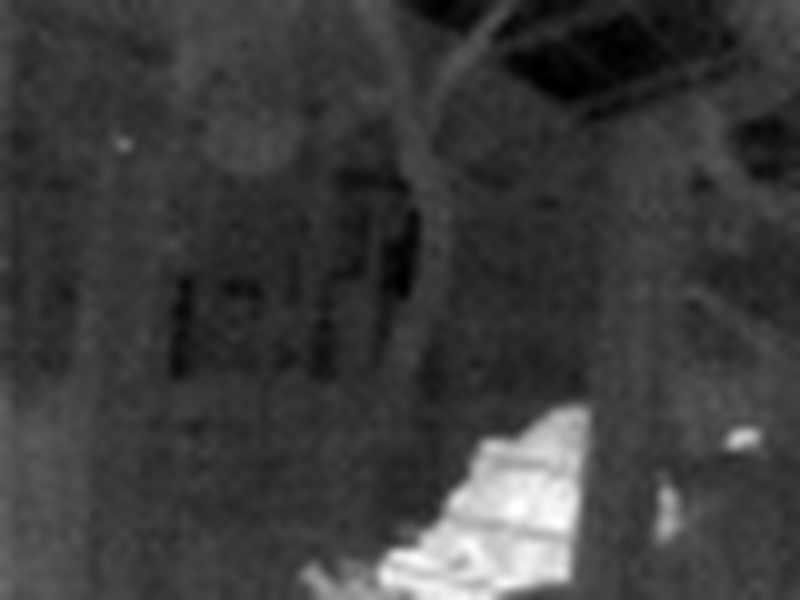elephant: (288, 400, 685, 600)
